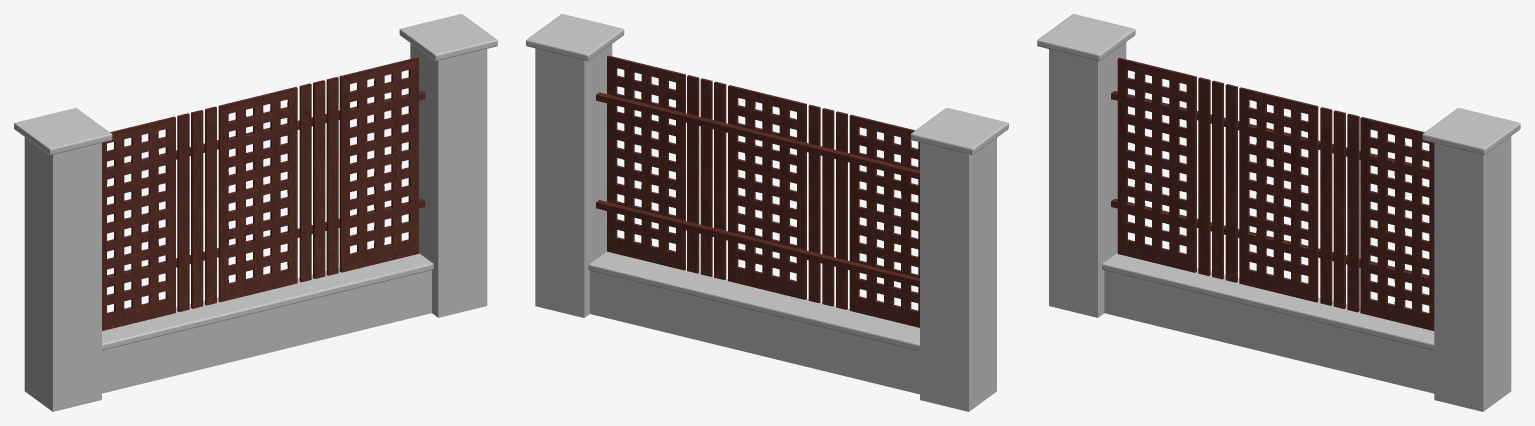
Rendered from Fence 6.FBX.
3 views of the same model, side by side, from view 1: azimuth 30°, elevation 25°; view 2: azimuth 150°, elevation 25°; view 3: azimuth 330°, elevation 25° (orthographic).
Parts seen in each view (by area): view 1: fence 6, column 1, column 2; view 2: fence 6, column 1, column 2; view 3: fence 6, column 2, column 1.
Boxes of the visible parts, x1,y1,x2,y2 form: fence 6: (102,57,433,393); column 1: (14,108,112,411); column 2: (399,14,497,317); fence 6: (588,55,919,394); column 1: (910,108,1008,411); column 2: (526,14,624,317); fence 6: (1102,57,1434,393); column 2: (1422,108,1520,411); column 1: (1037,14,1135,317).
Size of the model in its own units: 440 by 251 by 61.8.
